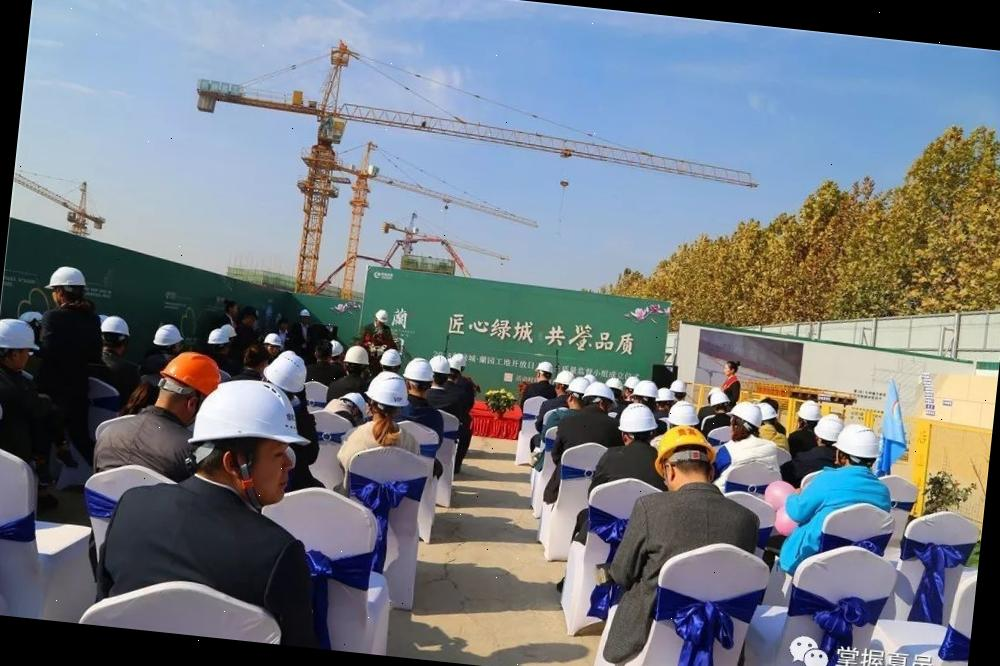helmet: (182, 374, 314, 460), (650, 422, 722, 476), (157, 347, 225, 396), (263, 348, 310, 396), (836, 418, 886, 462), (364, 370, 415, 409), (0, 314, 44, 355), (617, 400, 662, 436), (46, 260, 94, 292), (732, 400, 782, 430), (149, 318, 190, 350), (566, 372, 609, 400), (99, 312, 136, 340), (666, 400, 701, 427), (407, 354, 437, 384), (814, 416, 844, 444), (341, 342, 372, 367), (631, 376, 660, 401), (380, 348, 404, 370), (16, 308, 44, 326), (534, 361, 559, 377)
